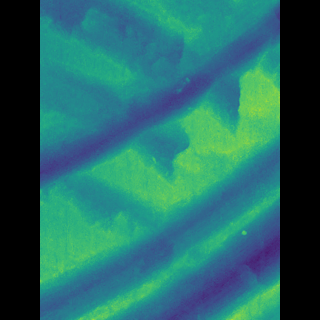Loch: (70, 0, 250, 194), (69, 128, 249, 320)
